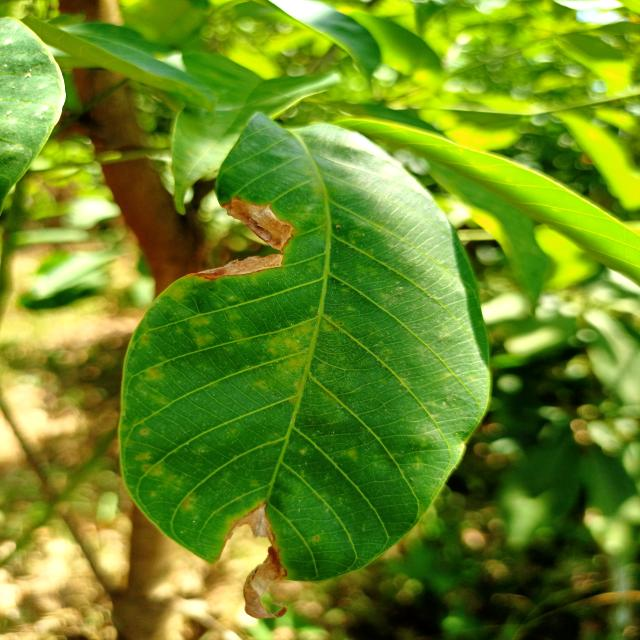Leaf-Blight: (226, 502, 289, 620), (220, 196, 294, 251), (184, 253, 284, 280)
